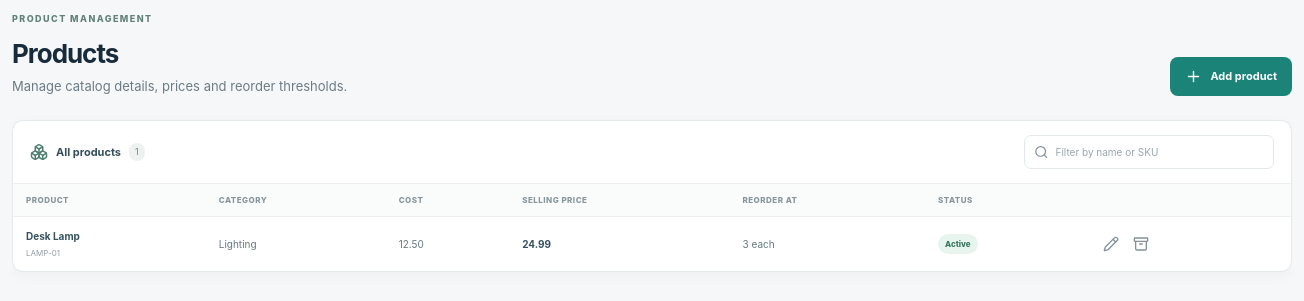
Test: ProductsPage › shows API products and filters them by name or SKU
Expected: the text "Desk Lamp" is shown, [26, 230, 80, 242]
Expected: the text "LAMP-01" is shown, [26, 248, 60, 258]
In the field named "Filter products": point(1160, 152) [1056, 144, 1264, 160], type "missing"
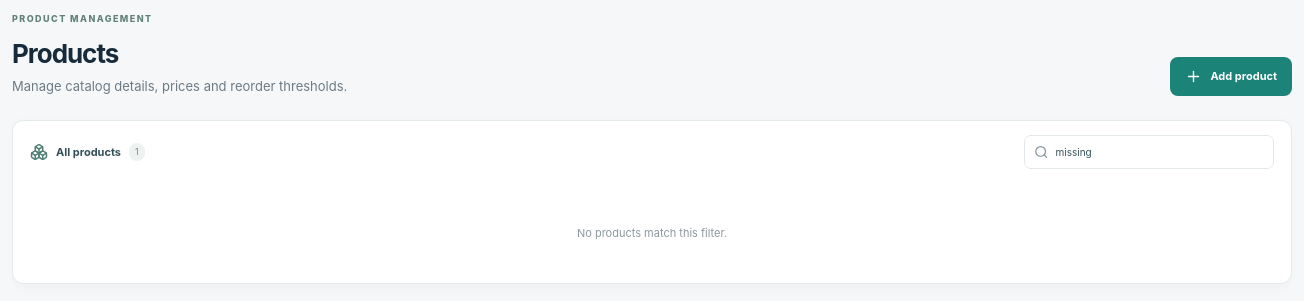
Result: the text "No products match this filter." is shown at [577, 226, 727, 240]
